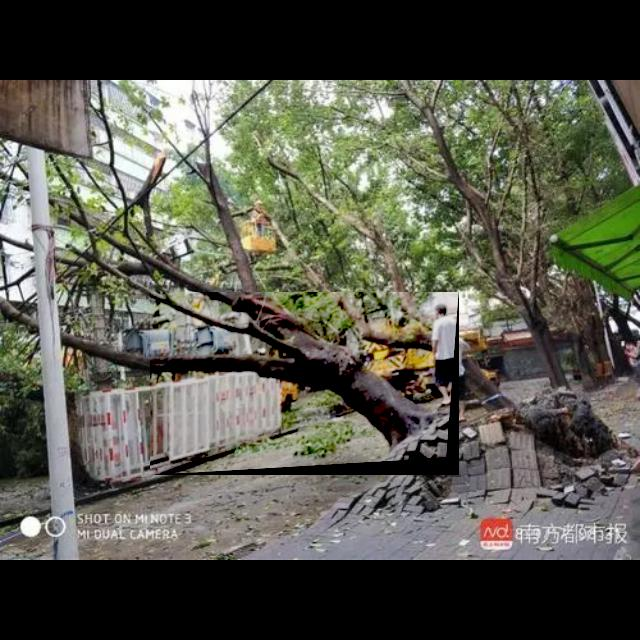Fallen Tree: (150, 292, 460, 476)
